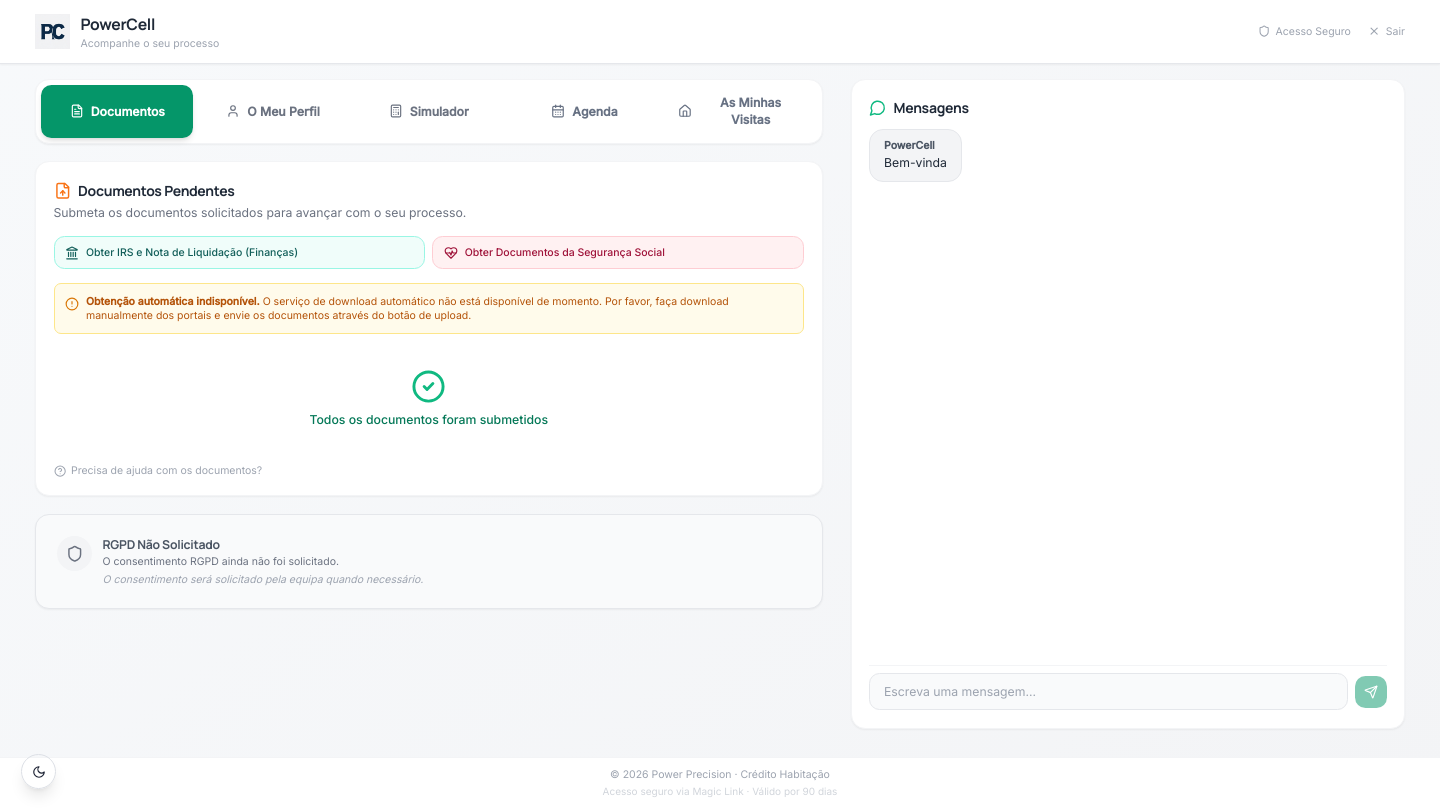
Test: Portal — «O Meu Perfil» espelha o registo › desenha um cartão por secção, pela ordem do registo
(page scrolled)
Click the button "O Meu Perfil" at (273, 111), box left=197, top=85, right=349, bottom=138
(page scrolled)
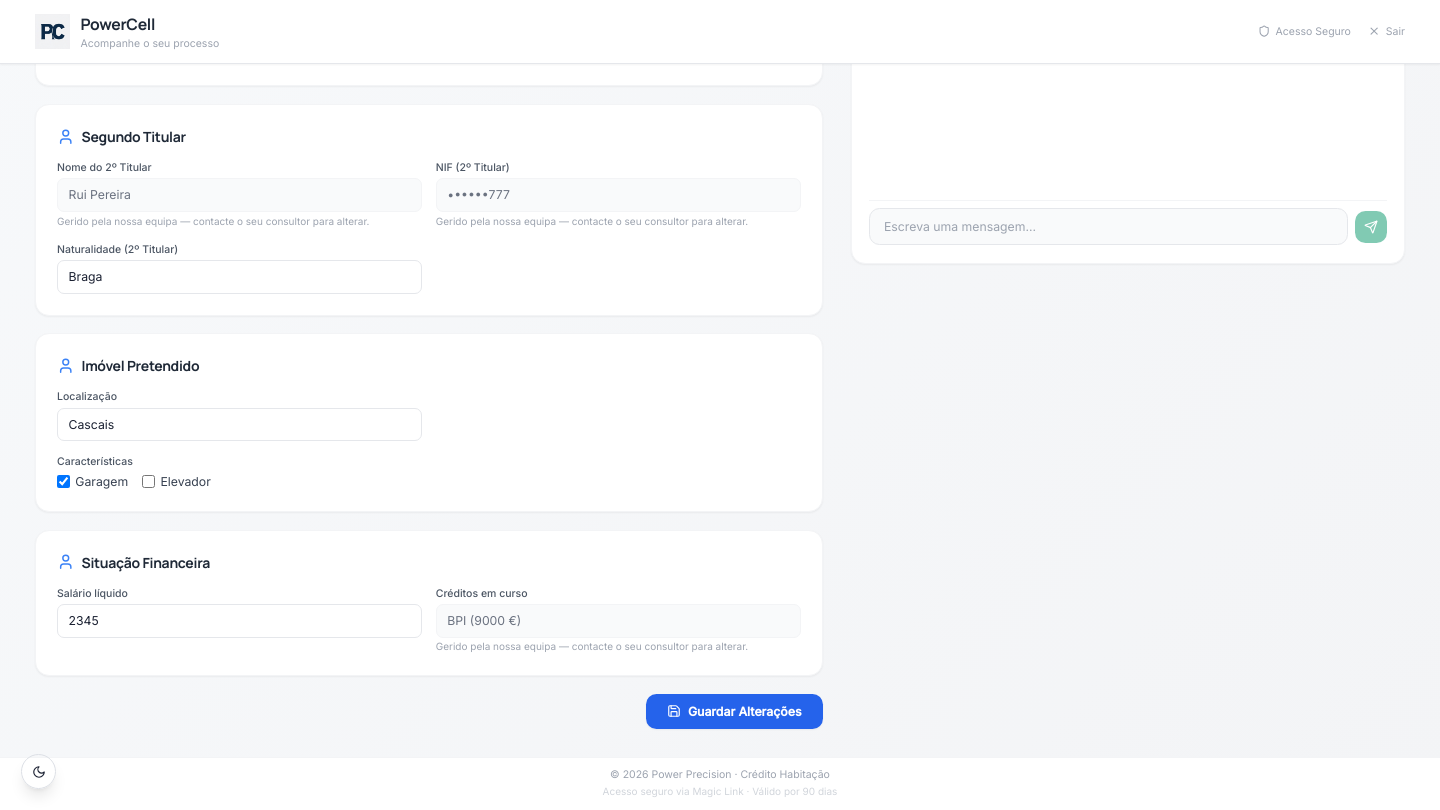
Check: the heading "Segundo Titular" is shown, box left=57, top=127, right=186, bottom=146
